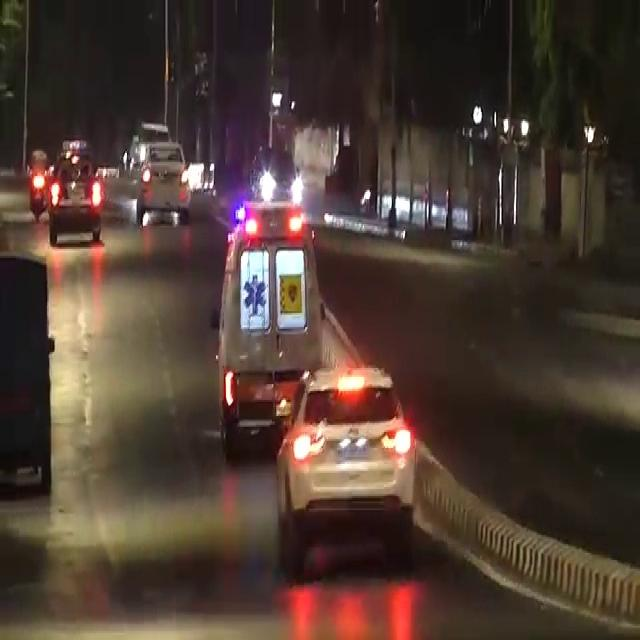ambulance: (220, 218, 324, 443)
